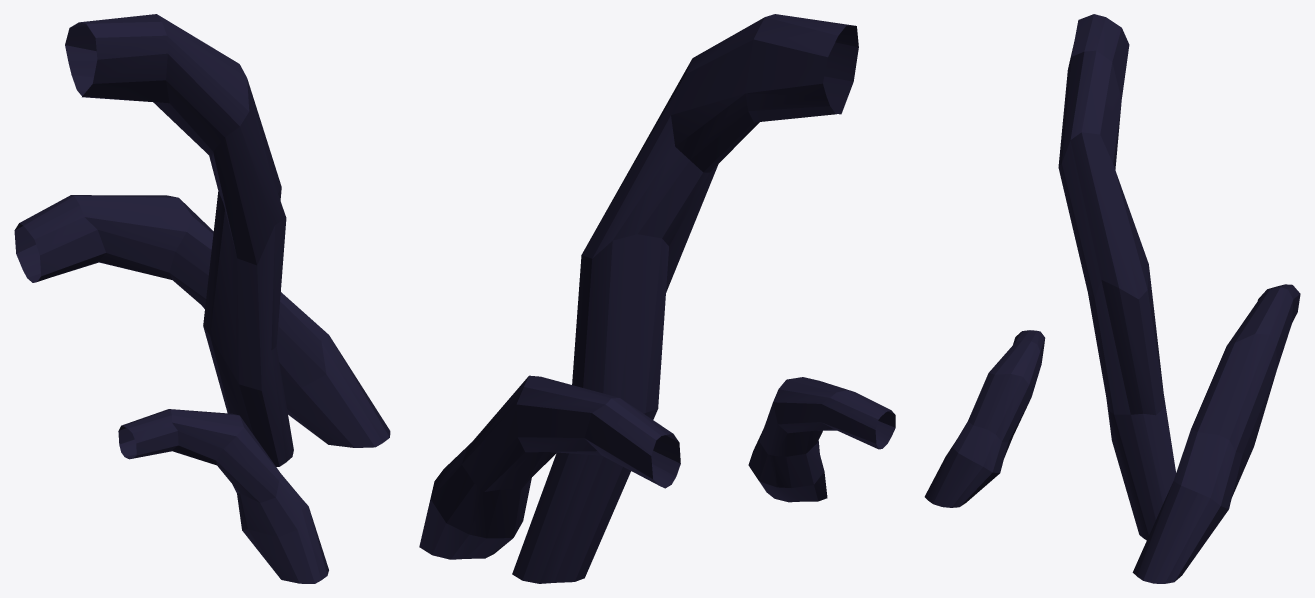
Rendered from RootTriple.fbx.
3 views of the same model, side by side, from view 1: azimuth 30°, elevation 25°; view 2: azimuth 150°, elevation 25°; view 3: azimuth 270°, elevation 25° (orthographic). The views are drawn at different scales.
Parts seen in each view (by area): view 1: RootsTriple; view 2: RootsTriple; view 3: RootsTriple.
Boxes of the visible parts, <box> form: RootsTriple: <box>14,14,390,583</box>; RootsTriple: <box>419,14,895,583</box>; RootsTriple: <box>924,14,1300,583</box>.
Bounding box in the file's own units: 6.04 × 8.75 × 6.92.
